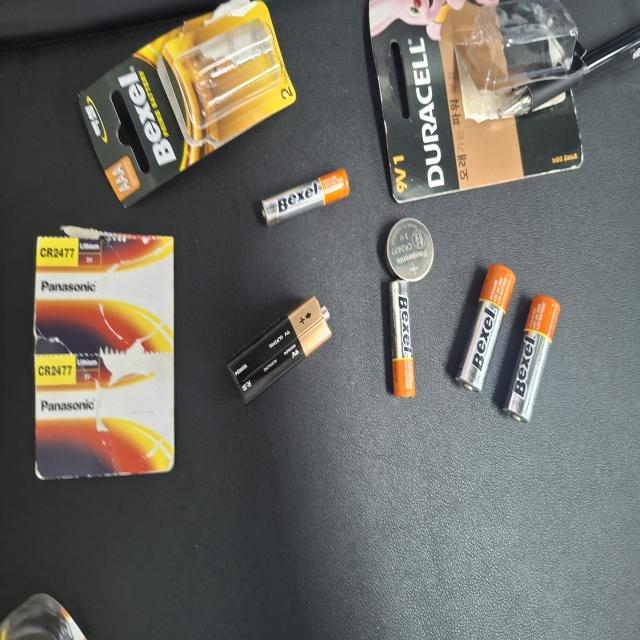9V: (177, 302, 258, 442)
AA: (185, 607, 282, 640)
AAA: (311, 349, 353, 466), (182, 519, 270, 554)
COIN: (269, 516, 316, 578)
